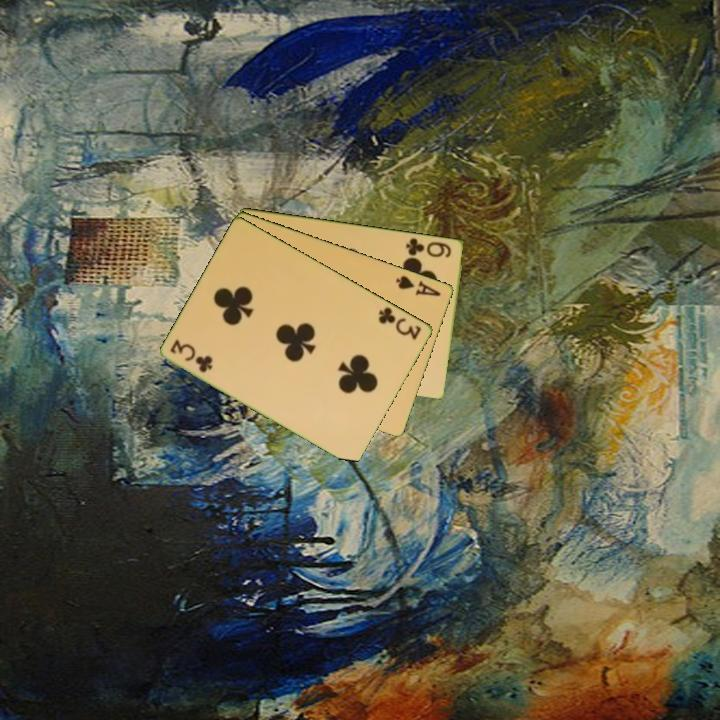3c: (375, 303, 424, 343), (167, 336, 216, 375)
6c: (403, 234, 455, 260)
As: (392, 272, 444, 299)
